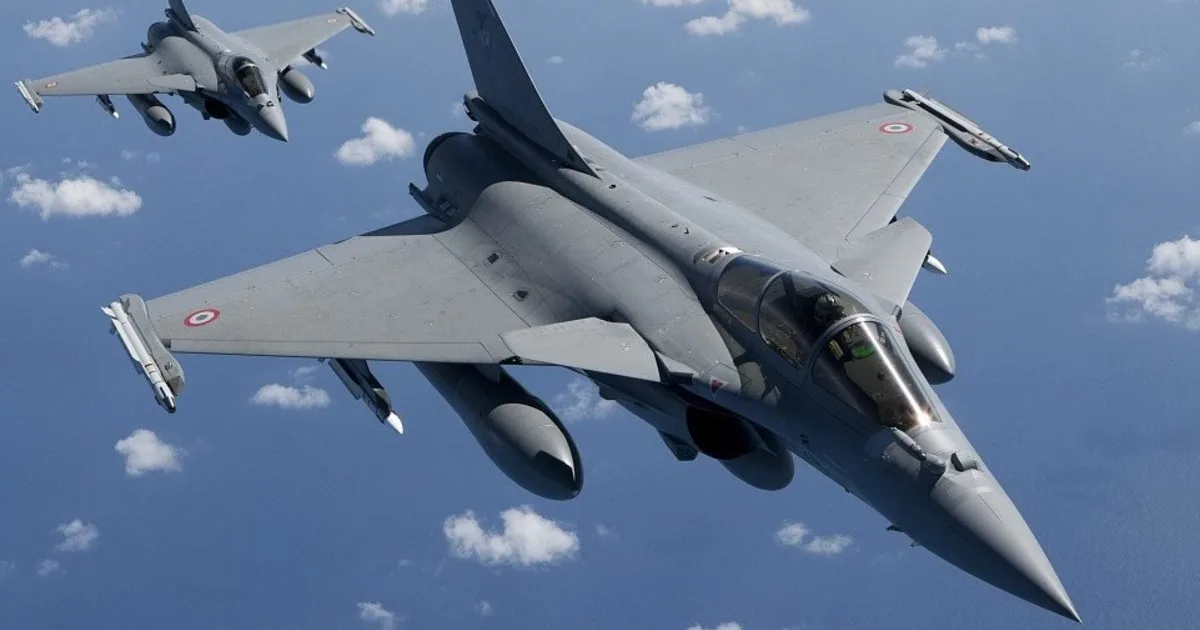Rafale: (94, 0, 1090, 630), (10, 0, 378, 148)
